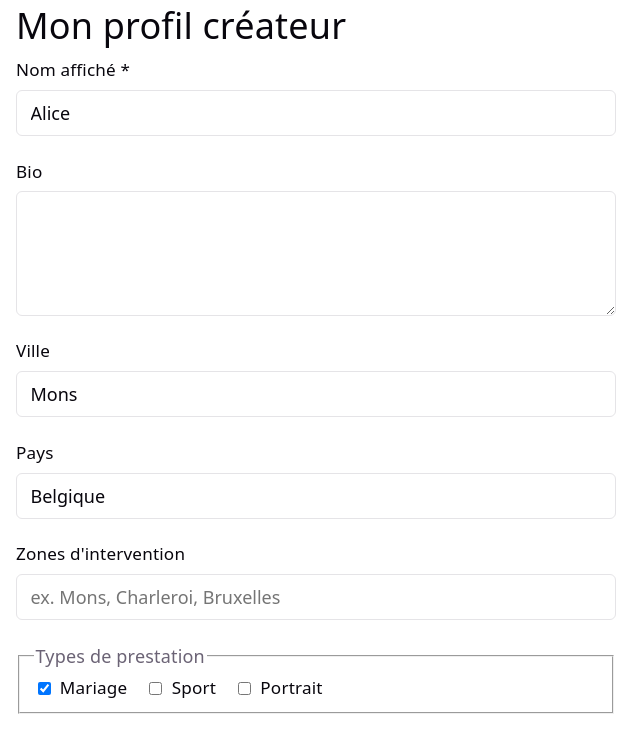
MonProfilCreateur : types de prestation (#87) › coche les types déjà choisis et enregistre le nouveau choix avec le profil
Expected: the checkbox labelled "Sport" is not checked, [149, 682, 162, 694]
Click the checkbox labelled "Mariage".
click(44, 688)  # box [38, 682, 50, 694]
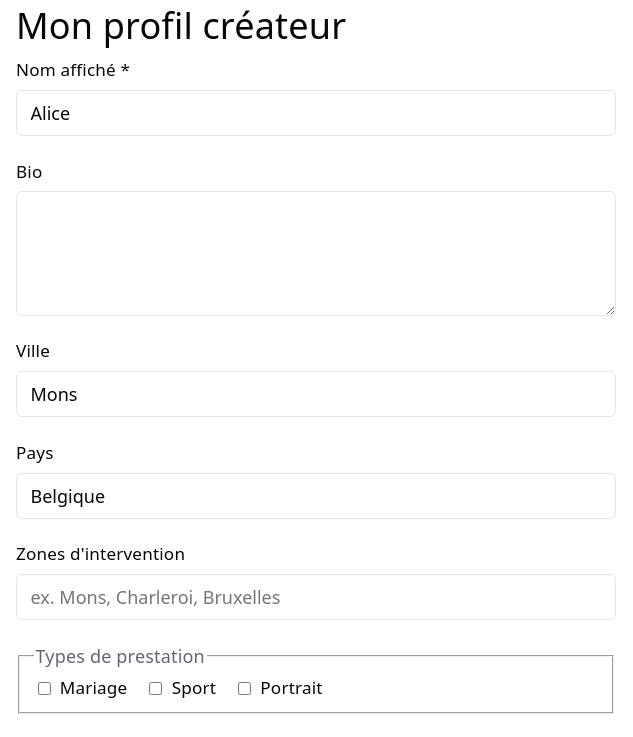
Click the checkbox labelled "Sport".
click(156, 688)  # box [149, 682, 162, 694]
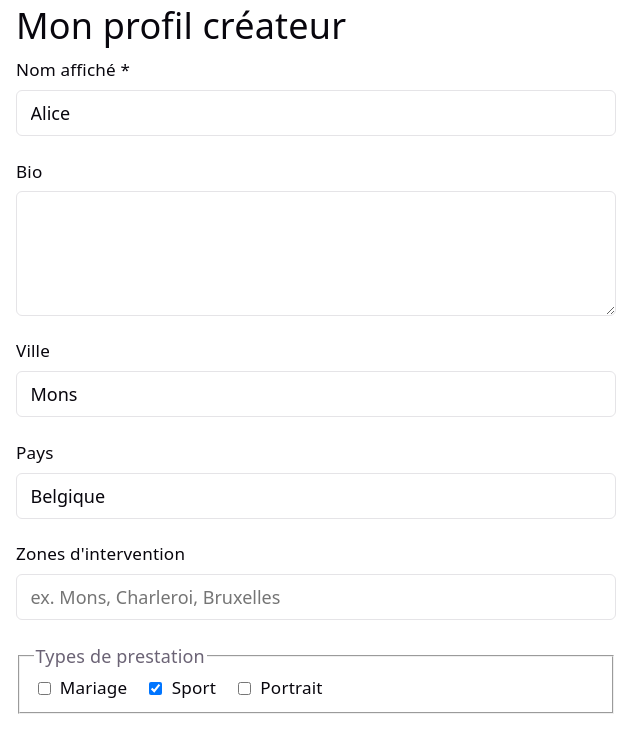
Click the checkbox labelled "Portrait".
click(244, 688)  # box [238, 682, 251, 694]
(page scrolled)
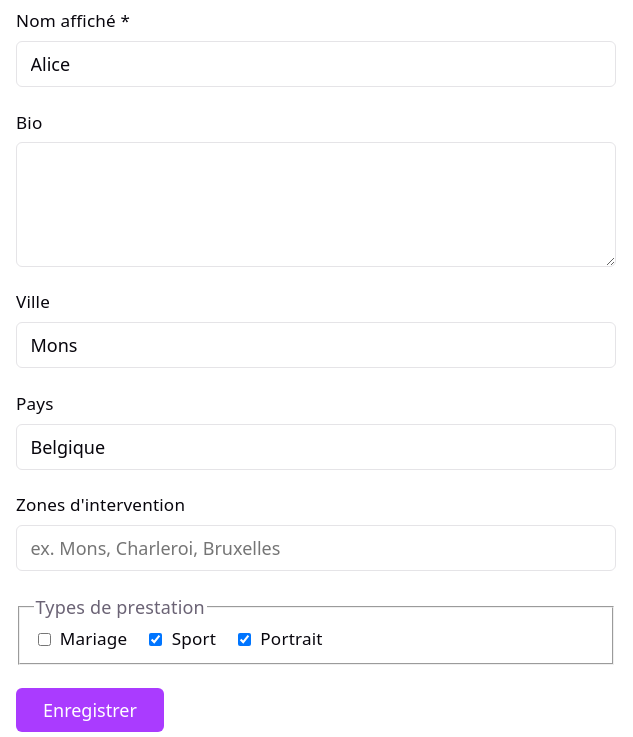
Click the button "Enregistrer".
click(90, 710)  # box [16, 688, 164, 732]
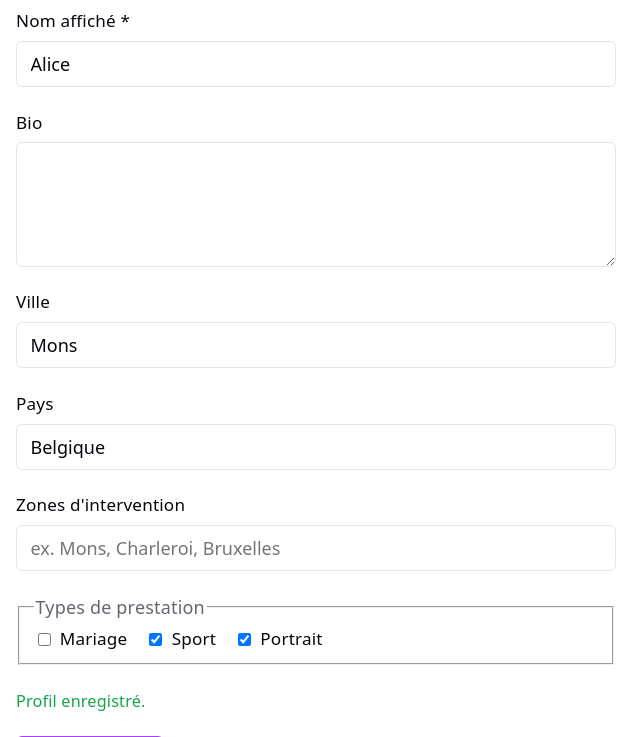
Expected: the text "Profil enregistré." is shown, [16, 690, 146, 712]
